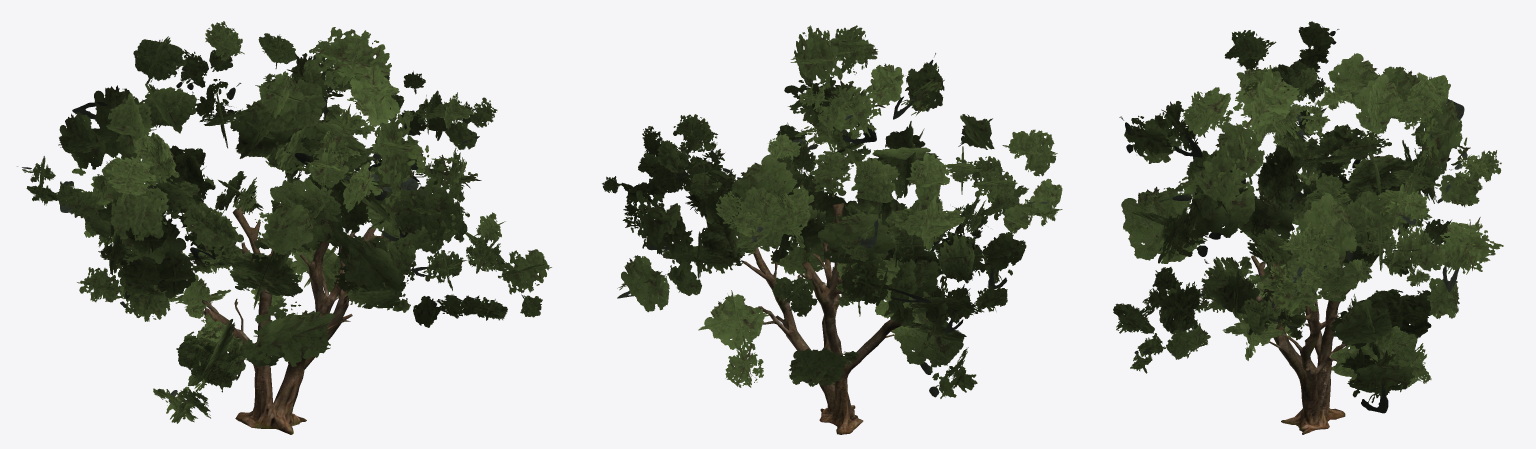
Rendered from tree_broad2_far.glb.
3 renders of one model, left to right at view 1: azimuth 30°, elevation 25°; view 2: azimuth 150°, elevation 25°; view 3: azimuth 270°, elevation 25°, orthographic. The views are drawn at different scales.
Visible parts, largest first — view 1: tree_broad2_far; view 2: tree_broad2_far; view 3: tree_broad2_far.
Part boxes in pixels (x1=…): tree_broad2_far: x1=17, y1=21, x2=551, y2=434; tree_broad2_far: x1=602, y1=25, x2=1062, y2=434; tree_broad2_far: x1=1113, y1=21, x2=1503, y2=434.
Bounding box in the file's own units: 24.43 × 20.36 × 19.98.
2 materials, 2 textured.
